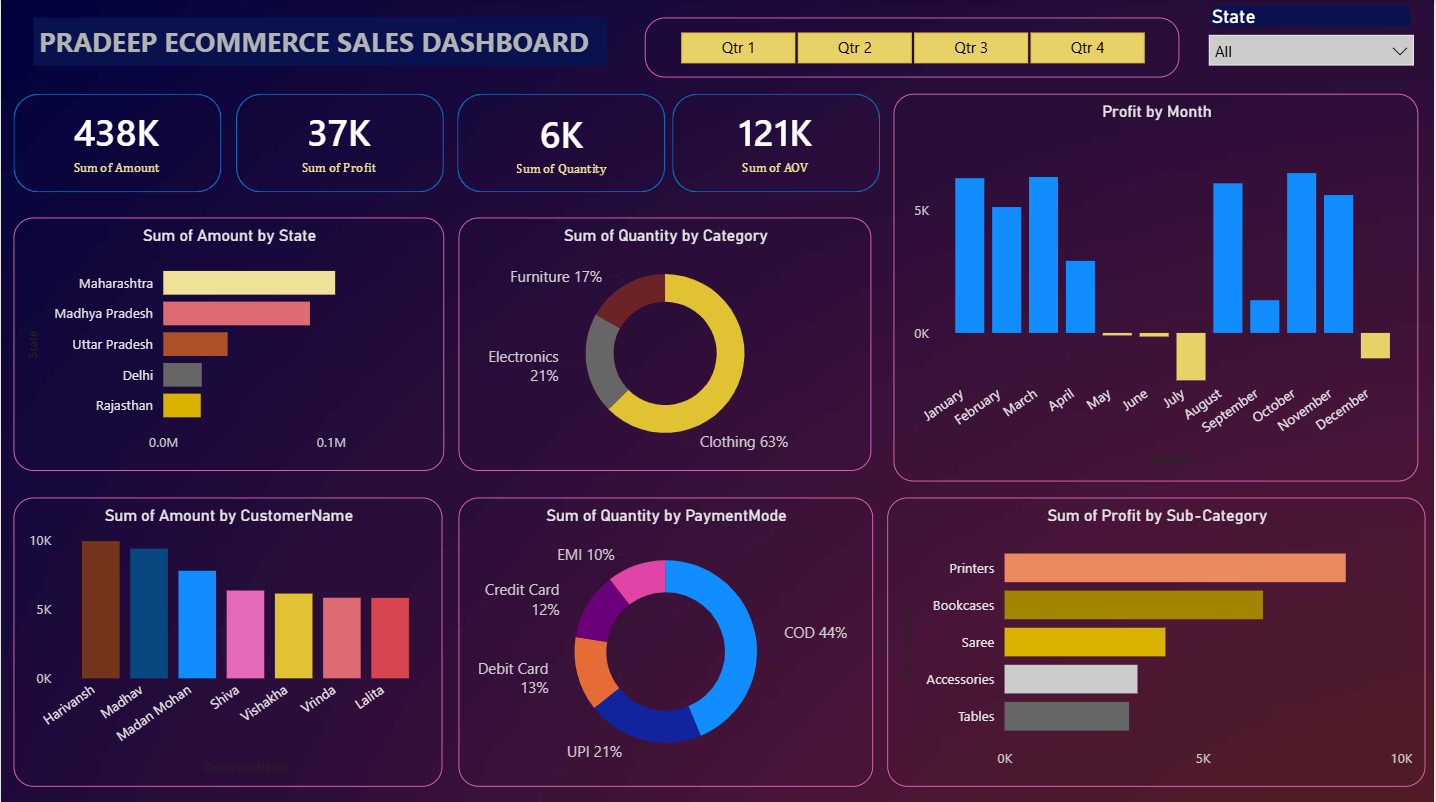

Layout of this report page (visuals, bound fields, positions):
{"tool":"powerbi","page":{"name":"Page 1","canvas":[1280,720],"ordinal":0},"visuals":[{"type":"textbox","box":[28.6,15.5,511.9,42.9],"z":0},{"type":"columnChart","title":"Profit by Month","fields":{"Y":["Sum(Details.Profit)"],"Category":["Orders.Order Date.Variation.Date Hierarchy.Month"]},"box":[797.6,83.3,469,346.4],"z":1000},{"type":"barChart","fields":{"Category":["Details.Sub-Category"],"Y":["Sum(Details.Profit)"]},"box":[791.7,444,481,258.3],"z":2000},{"type":"donutChart","fields":{"Y":["Sum(Details.Quantity)"],"Category":["Details.PaymentMode"]},"box":[408.3,444,370.2,258.3],"z":3000},{"type":"donutChart","fields":{"Category":["Details.Category"],"Y":["Sum(Details.Quantity)"]},"box":[408.3,194,369,226.2],"z":4000},{"type":"cardVisual","fields":{"Data":["Sum(Details.Amount)"]},"box":[10.7,75,184.5,103.6],"z":5000},{"type":"cardVisual","fields":{"Data":["Sum(Details.Quantity)"]},"box":[408.3,76.2,184.5,103.6],"z":6000},{"type":"cardVisual","fields":{"Data":["Sum(Details.Profit)"]},"box":[209.5,75,184.5,103.6],"z":7000},{"type":"cardVisual","fields":{"Data":["Sum(Details.AOV)"]},"box":[600,75,184.5,103.6],"z":8000},{"type":"shape","box":[10.7,83.3,185.7,88.1],"z":9000},{"type":"shape","box":[209.5,83.3,185.7,88.1],"z":10000},{"type":"shape","box":[407.1,83.3,185.7,88.1],"z":11000},{"type":"shape","box":[600,83.3,185.7,88.1],"z":12000},{"type":"barChart","fields":{"Category":["Orders.State"],"Y":["Sum(Details.Amount)"]},"box":[10.7,194,384.5,226.2],"z":13000},{"type":"columnChart","fields":{"Category":["Orders.CustomerName"],"Y":["Sum(Details.Amount)"]},"box":[10.7,444,383.3,258.3],"z":14000},{"type":"slicer","fields":{"Values":["Orders.Order Date.Variation.Date Hierarchy.Quarter"]},"box":[575,15.5,477.4,53.6],"z":15000},{"type":"slicer","fields":{"Values":["Orders.State"]},"box":[1069,0,203.6,76.2],"z":16000}]}

Visuals, with their boxes in screenshot pixels (x1, y1, x2, y2), scaled from the page's 1280x720 canvas onto the 1436x802 screenshot:
textbox: bbox(32, 17, 606, 65)
"Profit by Month" columnChart: bbox(895, 93, 1421, 479)
barChart - Details.Sub-Category x Sum(Details.Profit): bbox(888, 495, 1428, 782)
donutChart - Sum(Details.Quantity) x Details.PaymentMode: bbox(458, 495, 873, 782)
donutChart - Details.Category x Sum(Details.Quantity): bbox(458, 216, 872, 468)
cardVisual - Sum(Details.Amount): bbox(12, 84, 219, 199)
cardVisual - Sum(Details.Quantity): bbox(458, 85, 665, 200)
cardVisual - Sum(Details.Profit): bbox(235, 84, 442, 199)
cardVisual - Sum(Details.AOV): bbox(673, 84, 880, 199)
shape: bbox(12, 93, 220, 191)
shape: bbox(235, 93, 443, 191)
shape: bbox(457, 93, 665, 191)
shape: bbox(673, 93, 881, 191)
barChart - Orders.State x Sum(Details.Amount): bbox(12, 216, 443, 468)
columnChart - Orders.CustomerName x Sum(Details.Amount): bbox(12, 495, 442, 782)
slicer - Orders.Order Date.Variation.Date Hierarchy.Quarter: bbox(645, 17, 1181, 77)
slicer - Orders.State: bbox(1199, 0, 1428, 85)
